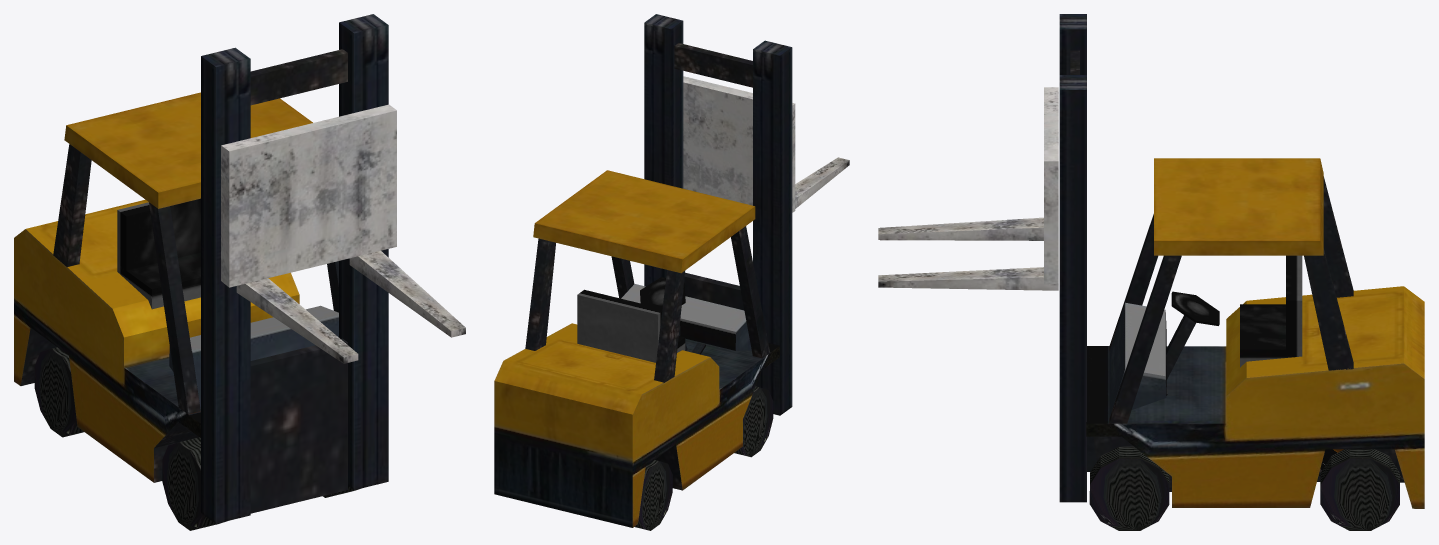
The model's file is Model_Forklift.fbx.
3 renders of one model, left to right at view 1: azimuth 30°, elevation 25°; view 2: azimuth 150°, elevation 25°; view 3: azimuth 270°, elevation 25°, orthographic. The views are drawn at different scales.
Parts seen in each view (by area): view 1: Object_ForkLift.jpg, Object_ForkLift_Front.jpg, Object_Wheel_Air.jpg; view 2: Object_ForkLift.jpg, Object_ForkLift_Front.jpg, Object_Wheel_Air.jpg; view 3: Object_ForkLift.jpg, Object_Wheel_Air.jpg, Object_ForkLift_Front.jpg.
Boxes of the visible parts, x1,y1,x2,y2 form: Object_ForkLift.jpg: [14, 14, 388, 523]; Object_ForkLift_Front.jpg: [221, 104, 465, 363]; Object_Wheel_Air.jpg: [34, 347, 361, 530]; Object_ForkLift.jpg: [494, 14, 792, 527]; Object_ForkLift_Front.jpg: [683, 76, 849, 212]; Object_Wheel_Air.jpg: [634, 386, 773, 530]; Object_ForkLift.jpg: [1059, 14, 1424, 508]; Object_Wheel_Air.jpg: [1089, 446, 1399, 530]; Object_ForkLift_Front.jpg: [878, 87, 1058, 290].
Bounding box in the file's own units: 0.8969 × 2.23 × 2.5.
